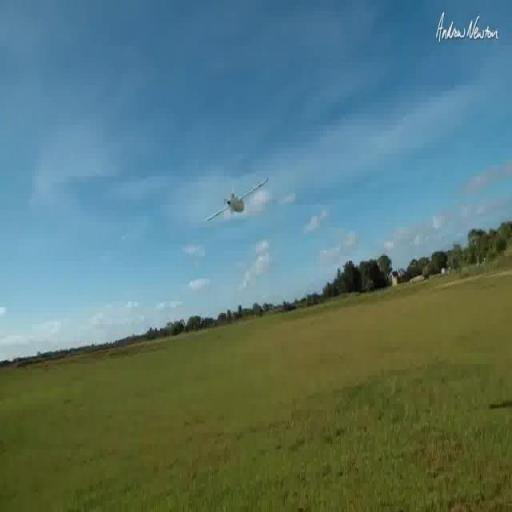uav: (196, 166, 279, 240)
